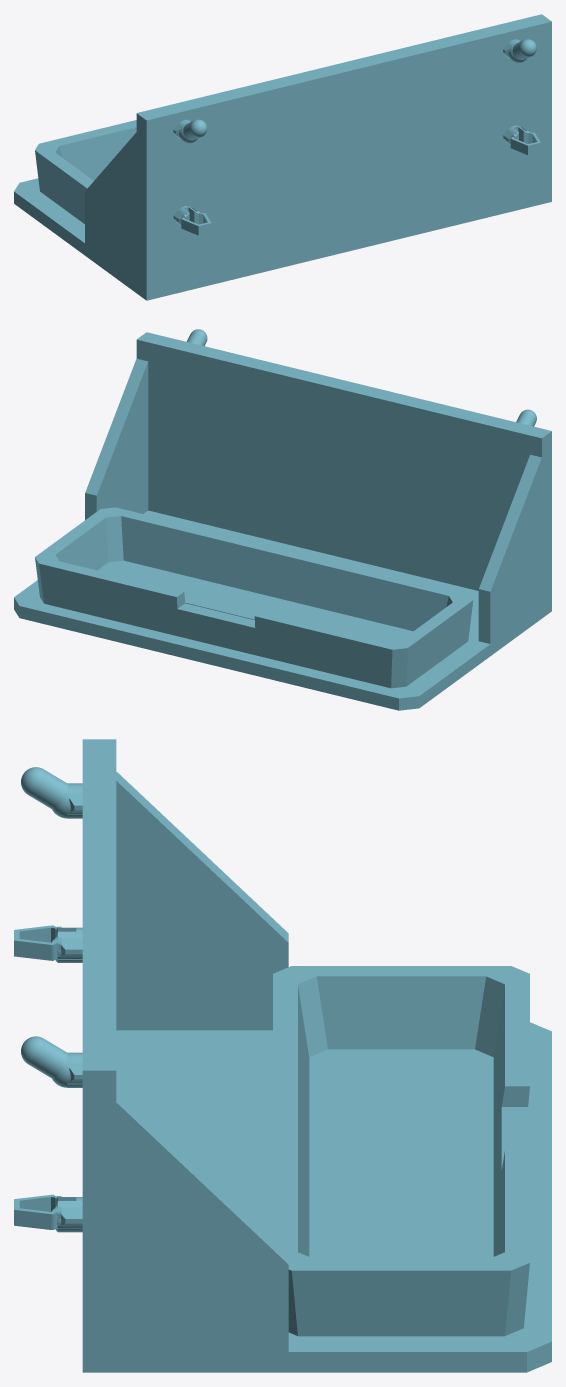
Rendered from part-drip-tray__current-mounts-v1__fit-pf02c9-hoop5__print.glb.
3 views of the same model, one above another, from view 1: azimuth 30°, elevation 25°; view 2: azimuth 150°, elevation 25°; view 3: azimuth 270°, elevation 25° (orthographic). The views are drawn at different scales.
Parts seen in each view (by area): view 1: print.stl; view 2: print.stl; view 3: print.stl.
Boxes of the visible parts, x1=… form: print.stl: x1=14, y1=14, x2=551, y2=300; print.stl: x1=14, y1=329, x2=551, y2=710; print.stl: x1=14, y1=739, x2=551, y2=1372.
Size of the model in its own units: 0.125 by 0.0534 by 0.0858.
